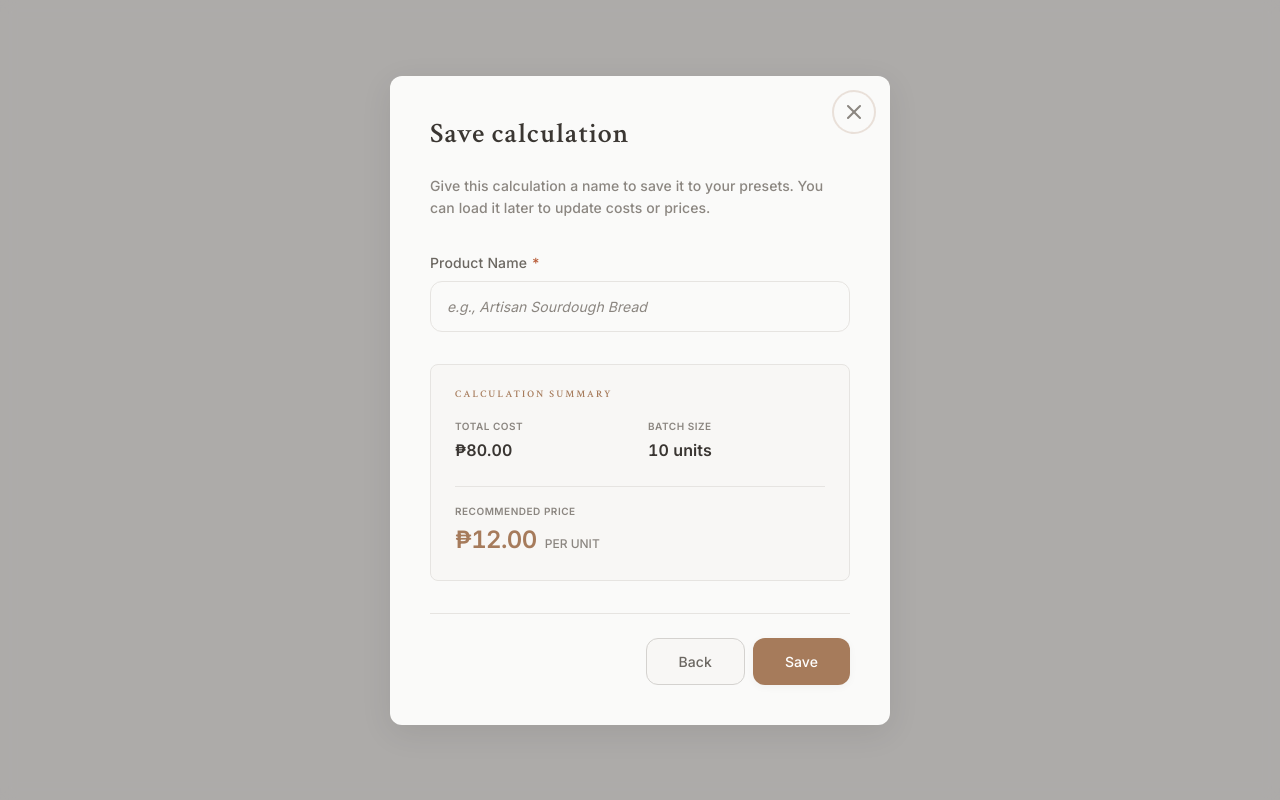
Test case: SavePresetModal › validates name length (too short)
In the field labelled "Product Name*": {"x": 640, "y": 306} [430,281,850,332], type "Ab"
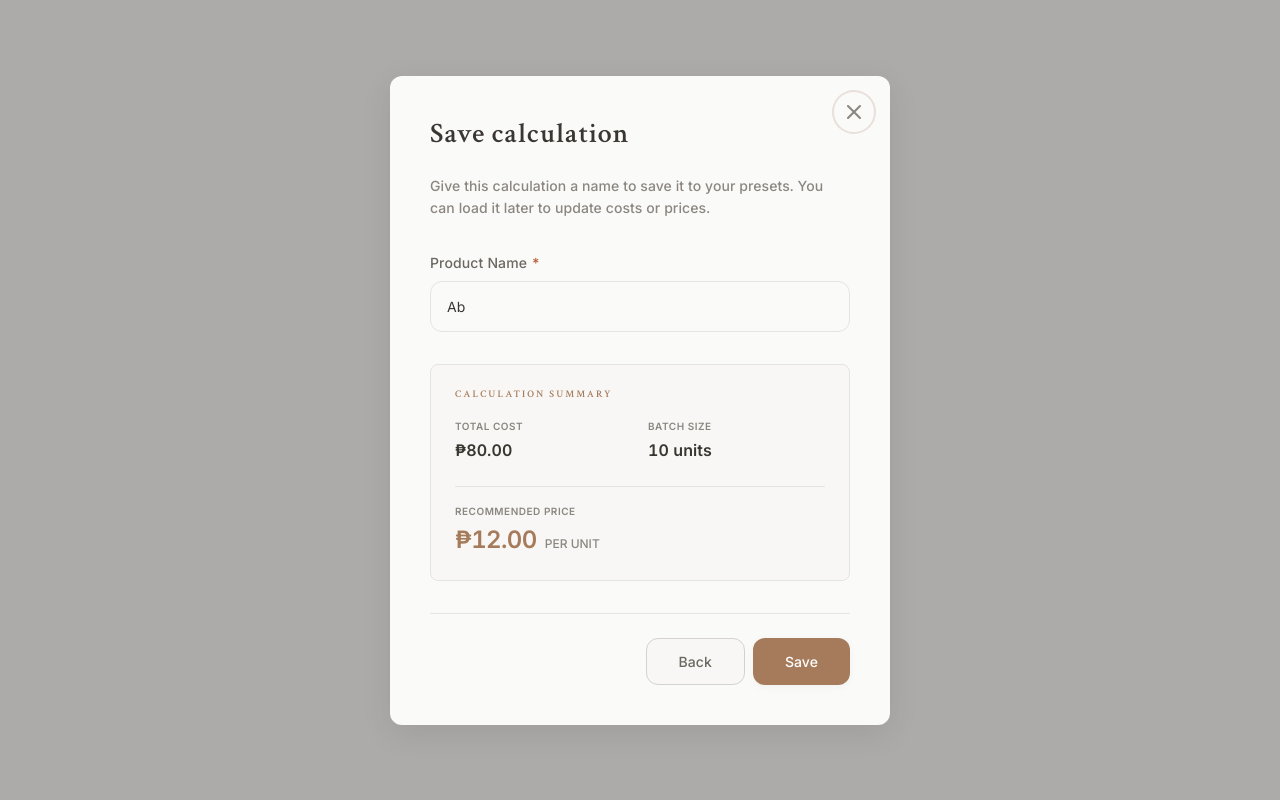
Click the button "Save": {"x": 801, "y": 661} [753,638,850,684]
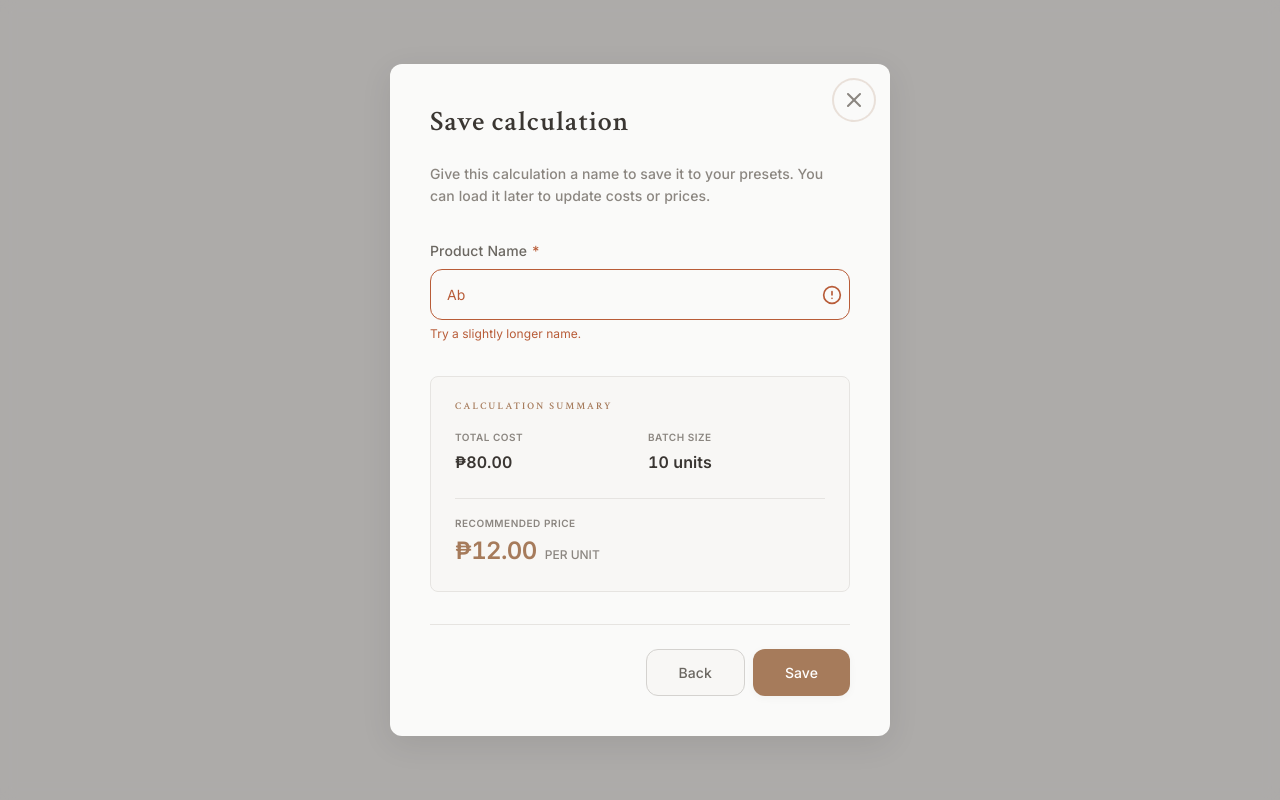
Check: the text "Try a slightly longer name." is shown, box [430,326,581,341]
